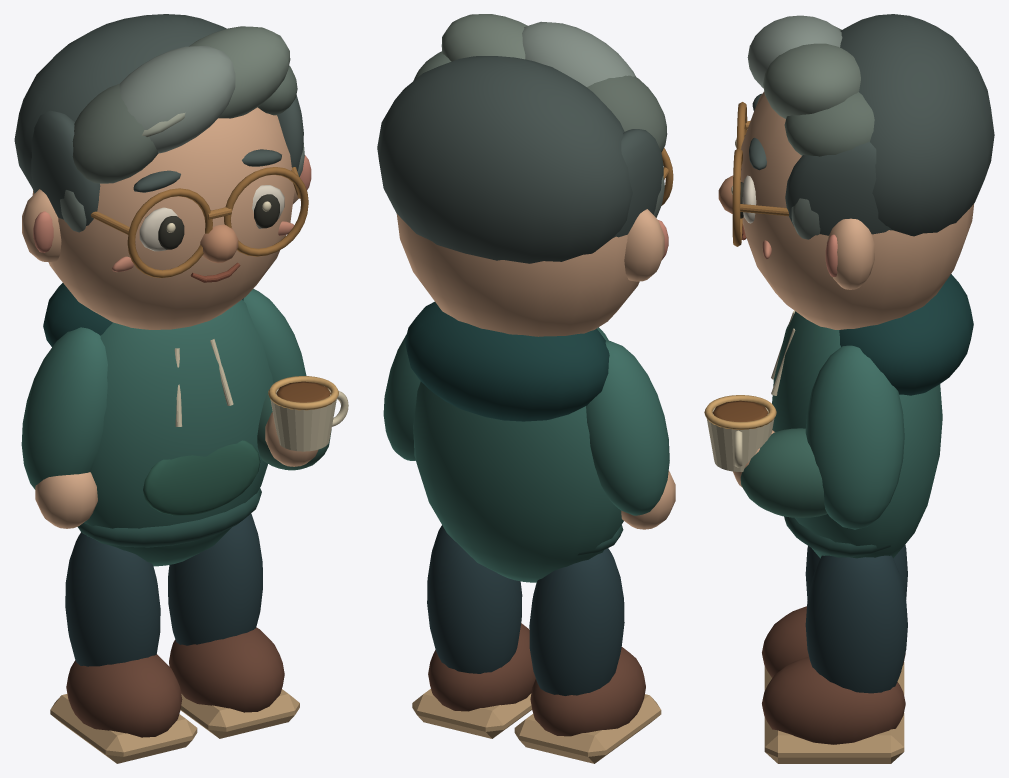
File: stone.glb
3 views of the same model, side by side, from view 1: azimuth 30°, elevation 25°; view 2: azimuth 150°, elevation 25°; view 3: azimuth 270°, elevation 25° (orthographic). The views are drawn at different scales.
Parts seen in each view (by area): view 1: Listening, Breath, Stone; view 2: Listening, Breath, Stone; view 3: Listening, Breath, Stone.
Boxes of the visible parts, x1,y1,x2,y2 form: Listening: (14,14,311,329); Breath: (21,283,348,566); Stone: (50,513,299,763); Listening: (377,14,673,336); Breath: (383,301,675,582); Stone: (412,525,661,763); Listening: (718,14,994,329); Breath: (704,274,973,558); Stone: (762,545,907,763).
Size of the model in its own units: 0.8891 by 2.11 by 0.7938.
